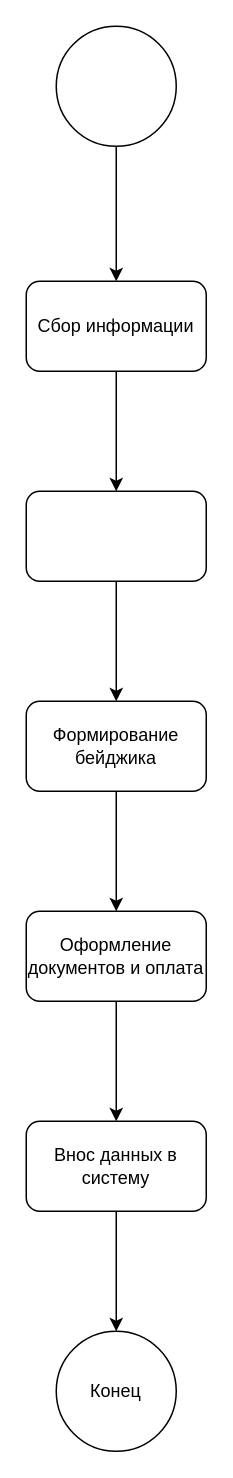
Some shapes in this 233 by 1478 pixel diagram are drawn without their labels. Each missing label, with the box of its shape:
Подтверждение регистрации: (25, 490, 206, 581)
Регистрация: (55, 25, 176, 146)
